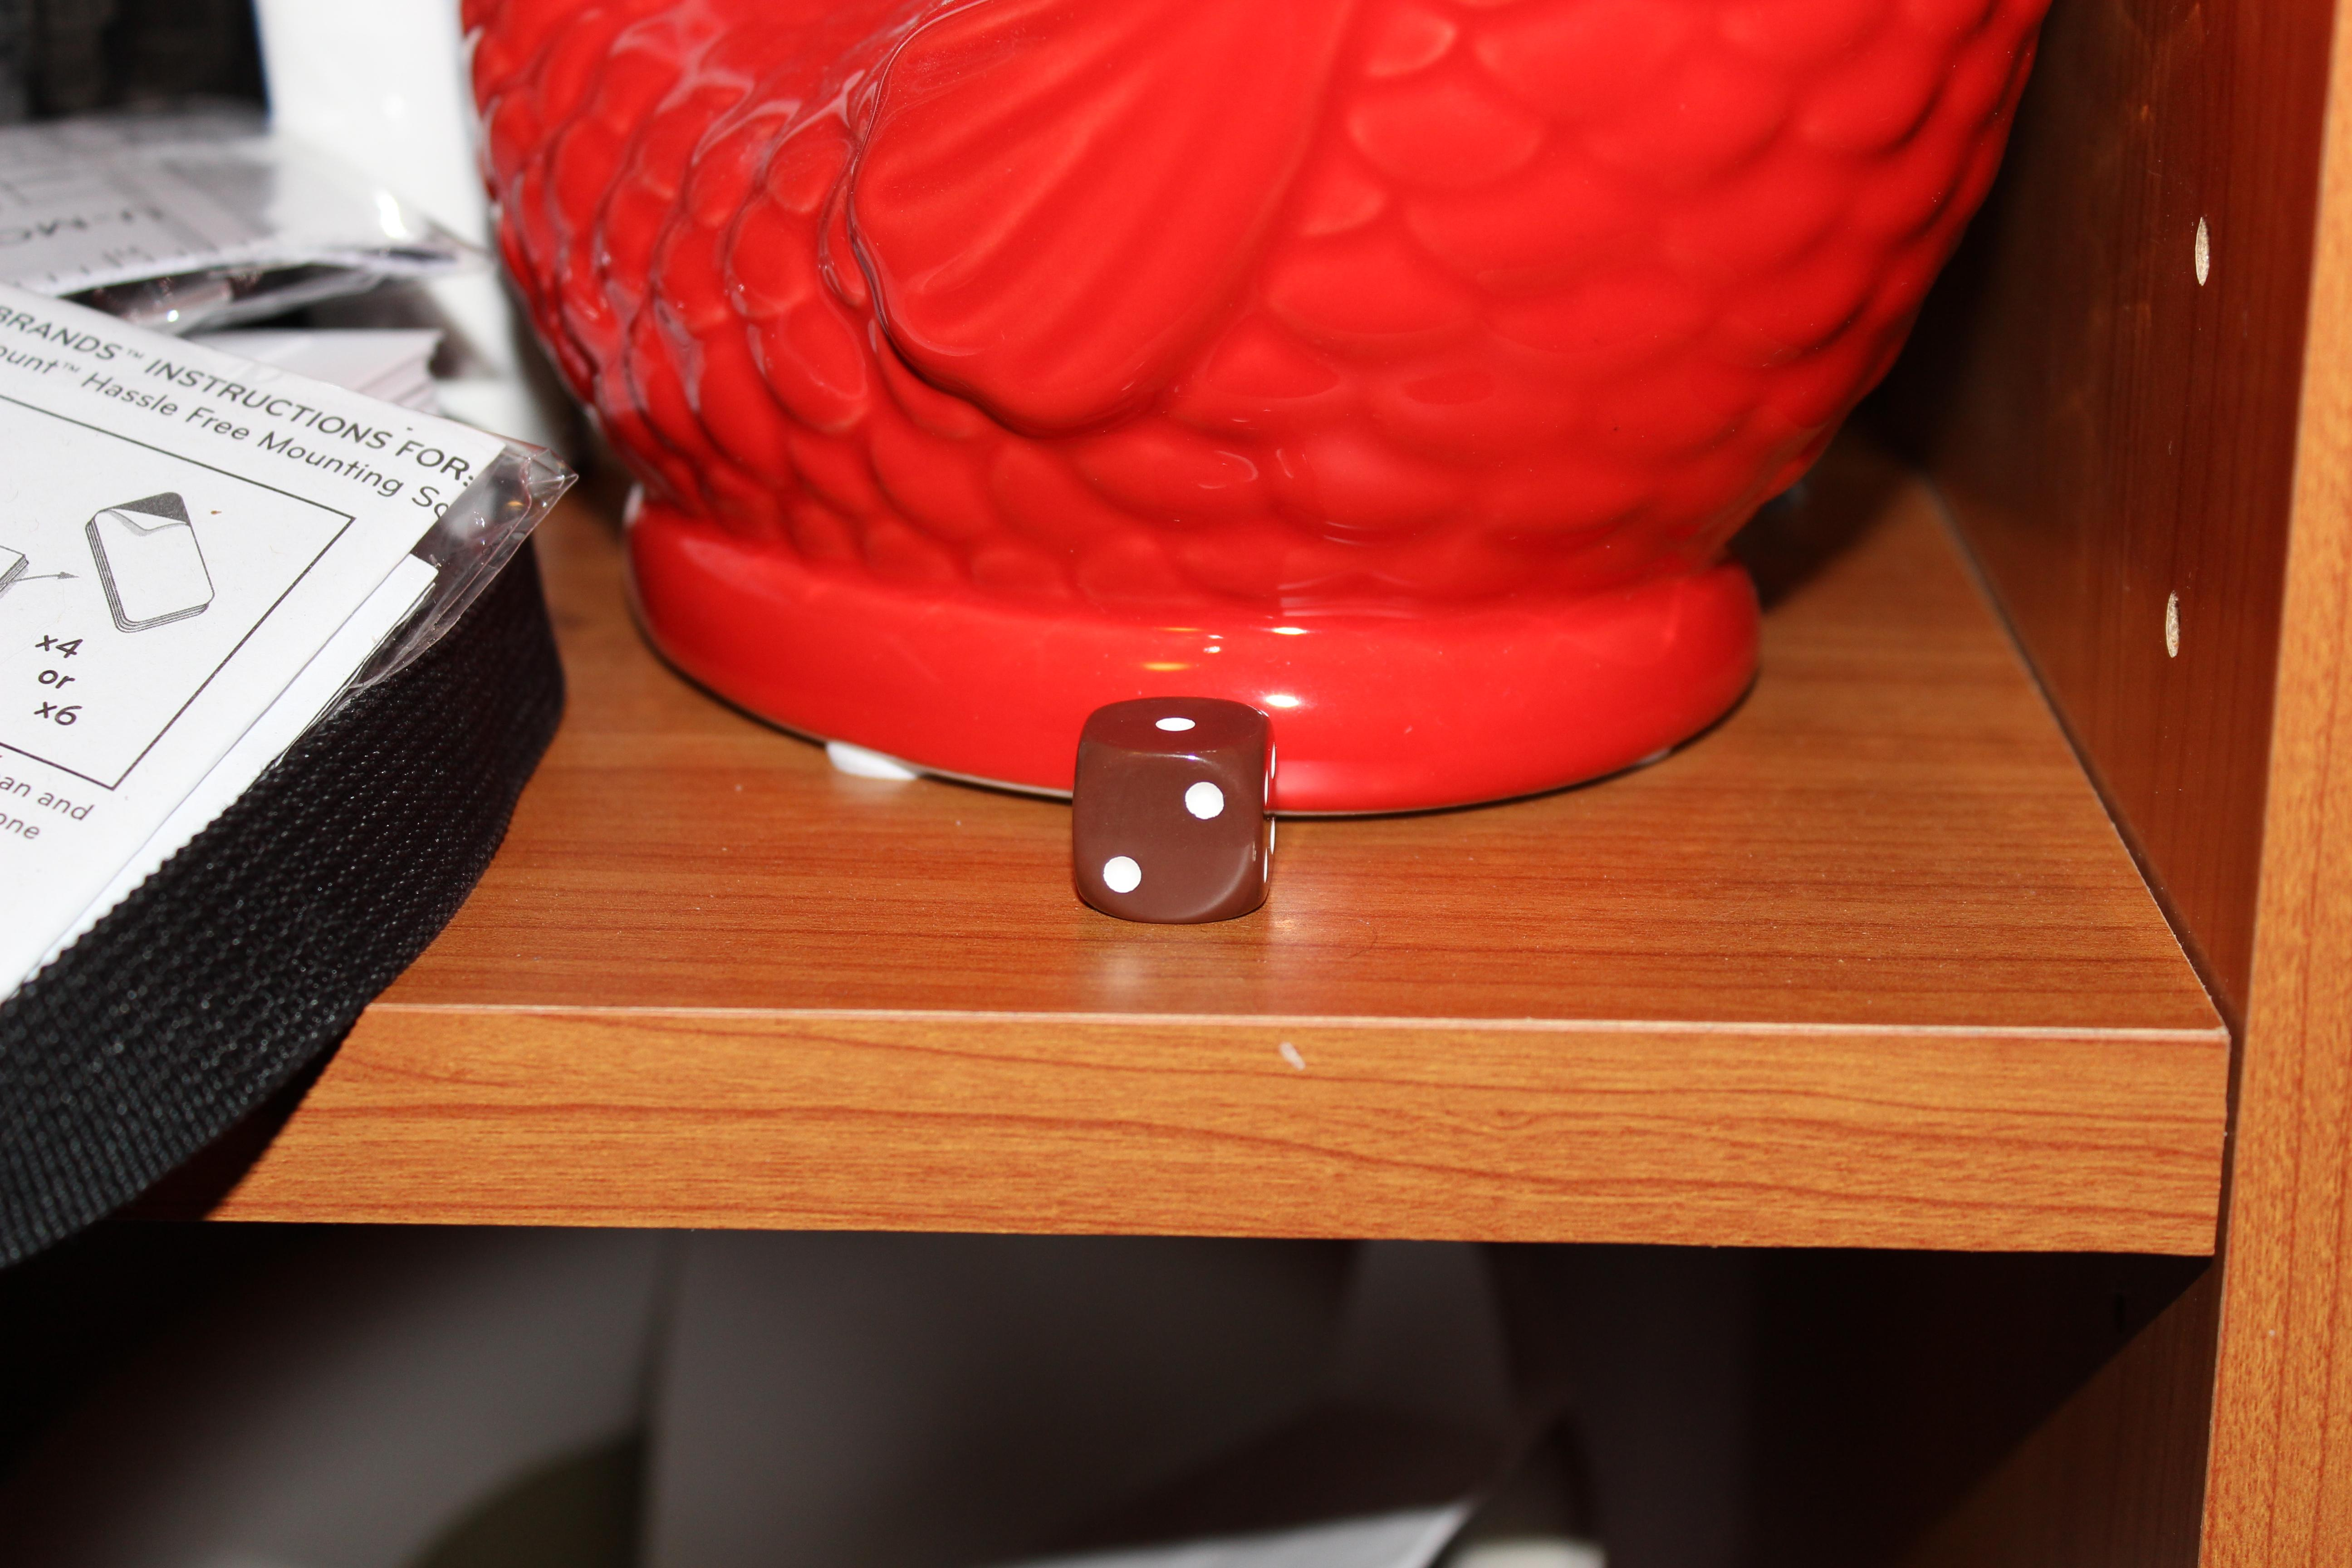brownDie: (1034, 670, 1316, 961)
